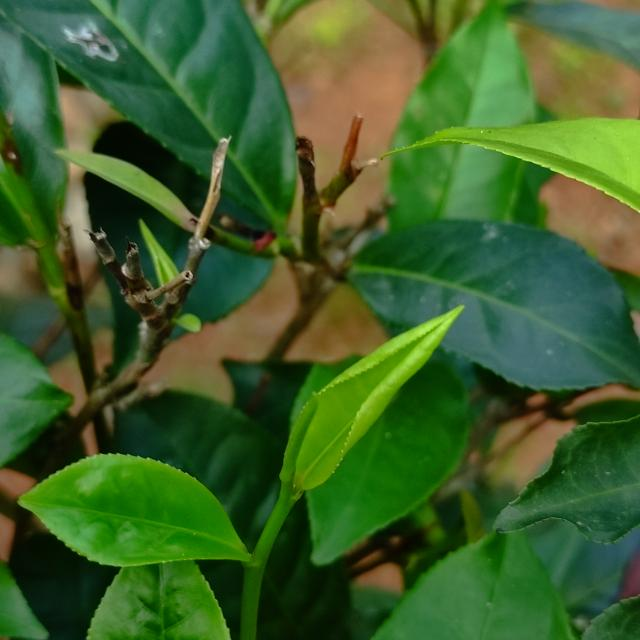unopened_leaf: (272, 381, 329, 512), (135, 211, 184, 291)
